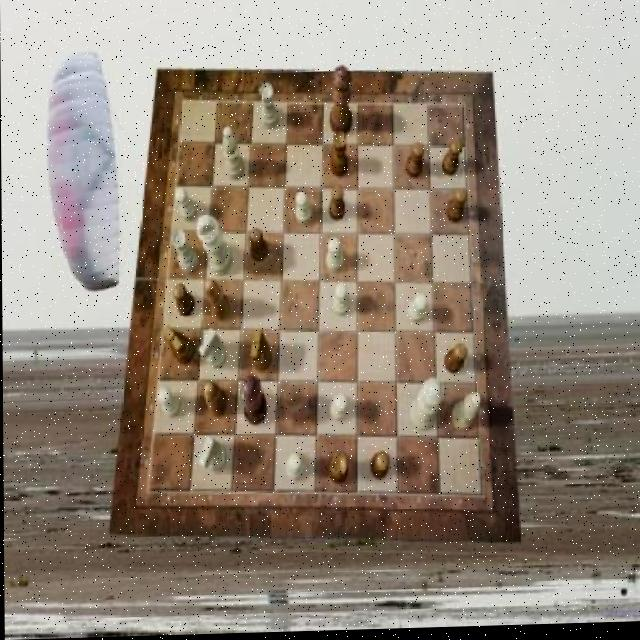bishop: (205, 279, 230, 323), (204, 383, 229, 419)
black-bishop: (239, 377, 267, 428)
black-king: (163, 327, 194, 367), (249, 329, 271, 372)
black-knight: (446, 191, 469, 226), (172, 285, 195, 319), (442, 142, 463, 178), (444, 346, 468, 376), (249, 229, 269, 264), (406, 144, 423, 181), (329, 187, 345, 224), (369, 454, 388, 482)
black-pawn: (330, 67, 353, 139)
black-queen: (330, 133, 348, 180), (329, 453, 349, 486)
black-rook: (222, 128, 245, 183), (452, 395, 481, 433)
white-bishop: (198, 213, 234, 276)
white-king: (199, 330, 227, 371), (198, 436, 226, 473)
white-knight: (175, 188, 198, 223), (158, 388, 182, 419), (332, 286, 350, 320), (326, 240, 343, 275), (406, 296, 427, 324), (295, 192, 312, 226), (284, 455, 302, 483), (330, 397, 348, 425)
white-pawn: (409, 380, 444, 434)
white-queen: (172, 231, 199, 274), (259, 84, 278, 130)
